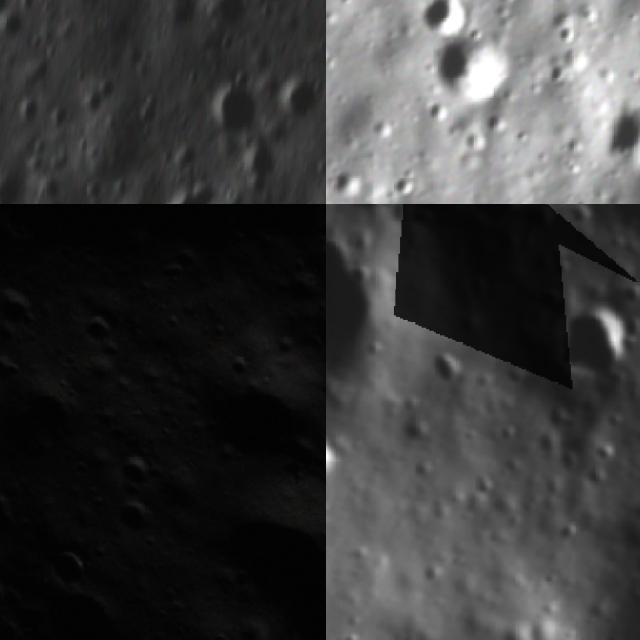crater: (183, 341, 326, 492), (212, 487, 326, 618), (326, 216, 395, 404), (6, 362, 103, 460), (558, 297, 640, 386), (40, 573, 143, 640), (435, 29, 512, 98), (35, 533, 106, 605), (106, 490, 168, 552), (0, 274, 50, 348), (598, 94, 640, 175), (68, 301, 124, 358), (213, 86, 269, 140), (113, 442, 165, 497), (238, 136, 281, 202), (0, 547, 29, 640), (281, 69, 326, 127), (444, 204, 531, 230), (428, 343, 472, 394), (167, 174, 228, 204), (415, 0, 471, 31), (330, 162, 370, 201), (520, 204, 556, 239), (326, 433, 344, 494), (214, 0, 253, 28), (394, 165, 419, 196), (628, 412, 640, 455)
